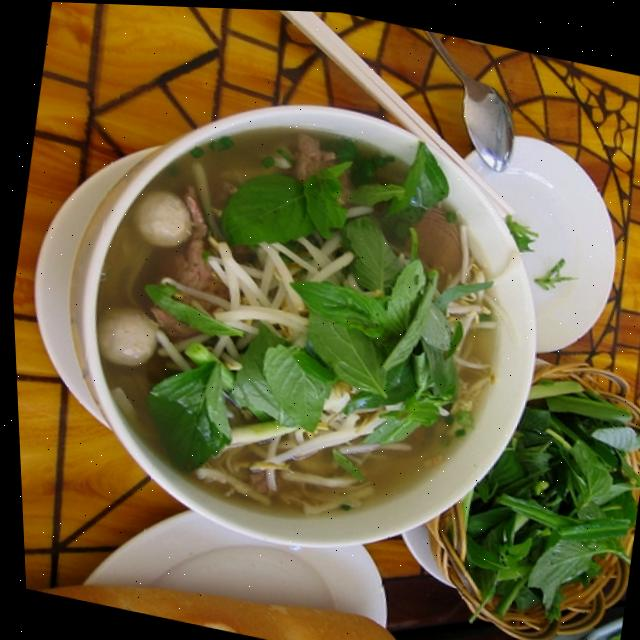面条主食: (16, 49, 586, 592)
